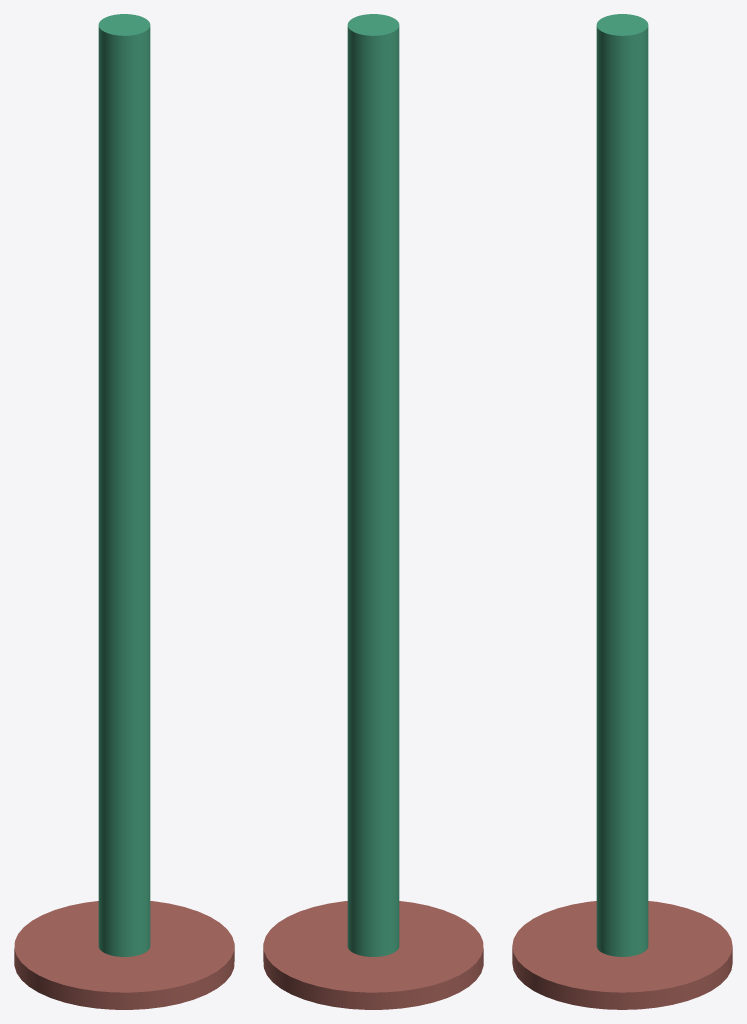
Rendered from Lamp.fbx.
The picture shows the model from 3 angles, left to right: view 1: azimuth 30°, elevation 25°; view 2: azimuth 150°, elevation 25°; view 3: azimuth 270°, elevation 25°; orthographic projection.
Parts seen in each view (by area): view 1: Lamp; view 2: Lamp; view 3: Lamp.
Boxes of the visible parts, x1,y1,x2,y2 form: Lamp: (14,14,234,1009); Lamp: (263,14,483,1009); Lamp: (512,14,732,1009).
Size of the model in its own units: 1.28 by 6 by 1.28.
